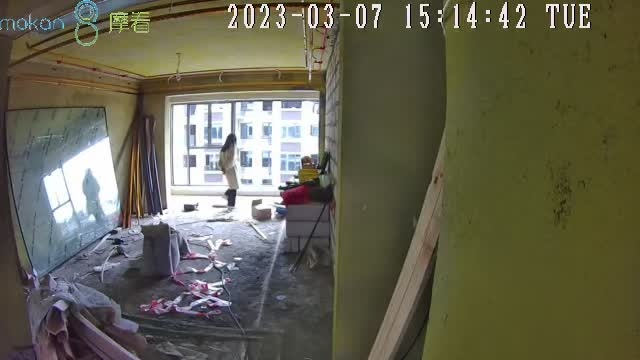people: (219, 133, 239, 210)
window: (169, 98, 321, 194)
